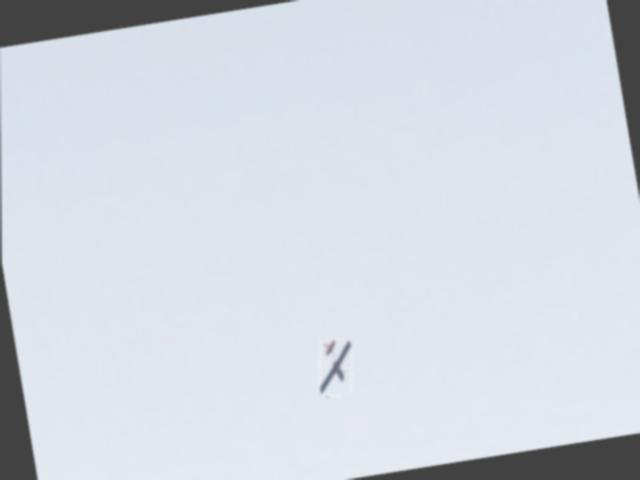insansiz-hava-araci: (312, 336, 357, 400)
